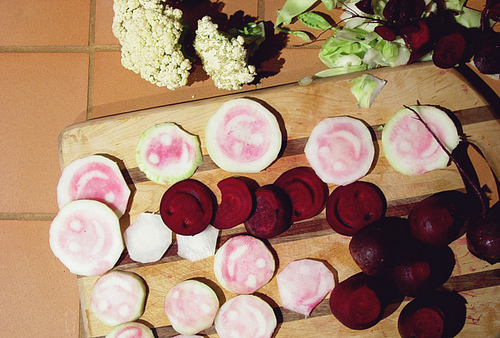cauliflower: (109, 1, 196, 93), (196, 13, 259, 91)
